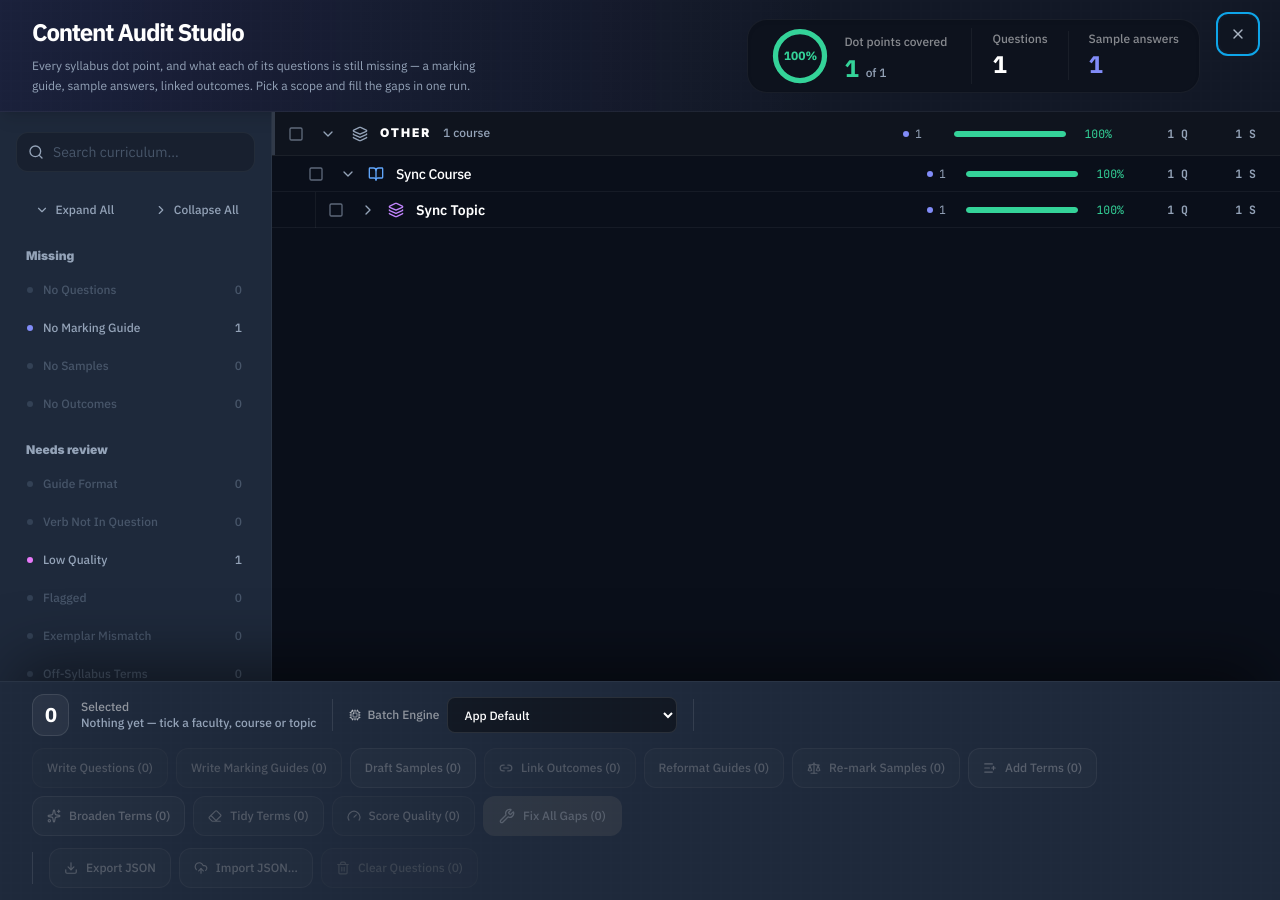
it: Content Audit Studio — sync repairs to the shared library › queues repaired prompts and pushes them (with samples) as pending contributions
Expected: the button "sync to library" is not shown
// Repair the prompt's rubric (it has none) via a real batch run.
Click the button named "Select Sync Course" at [316, 174], box [308, 166, 324, 182]
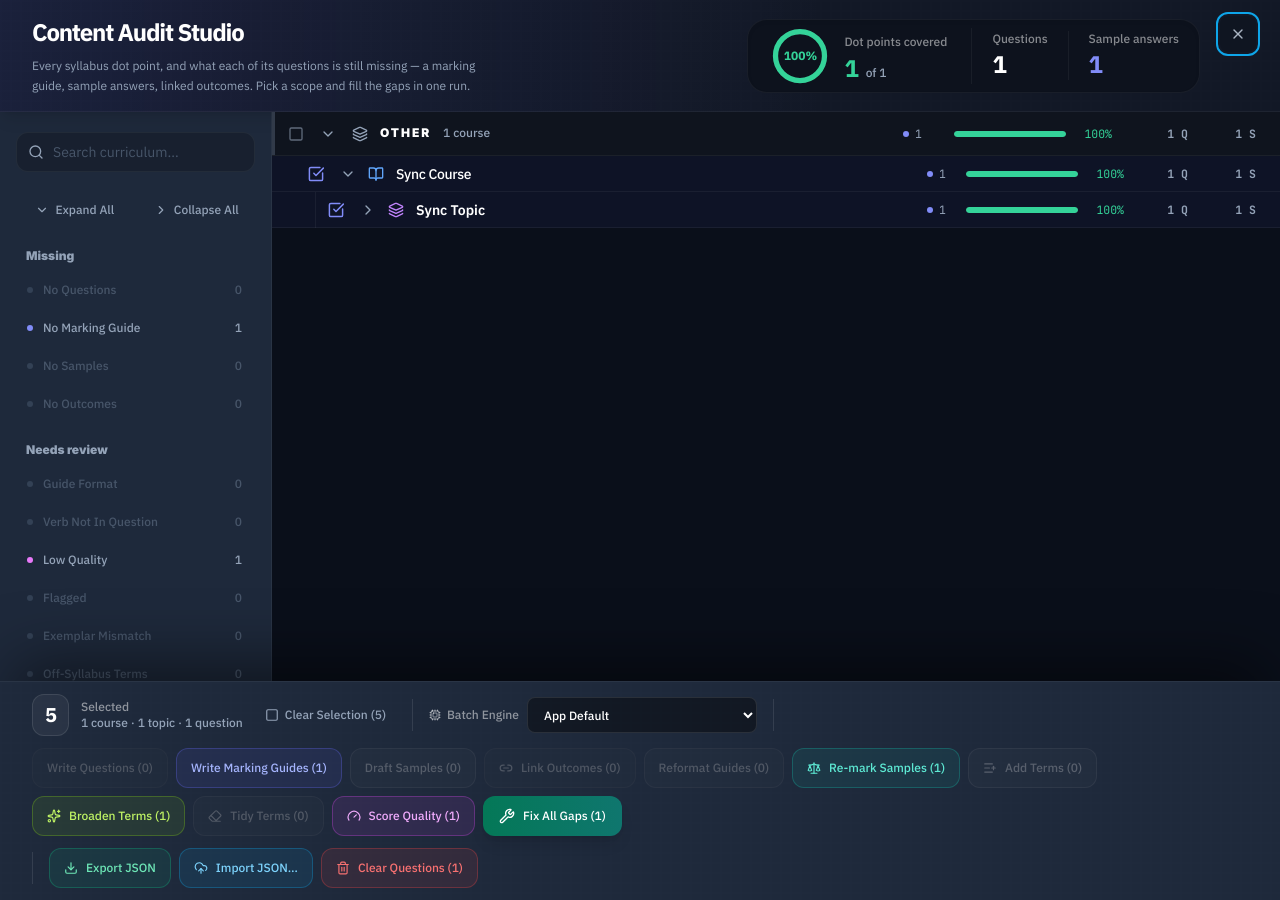
Click the button "Write Marking Guides (1)" at [259, 768], box [176, 748, 342, 788]
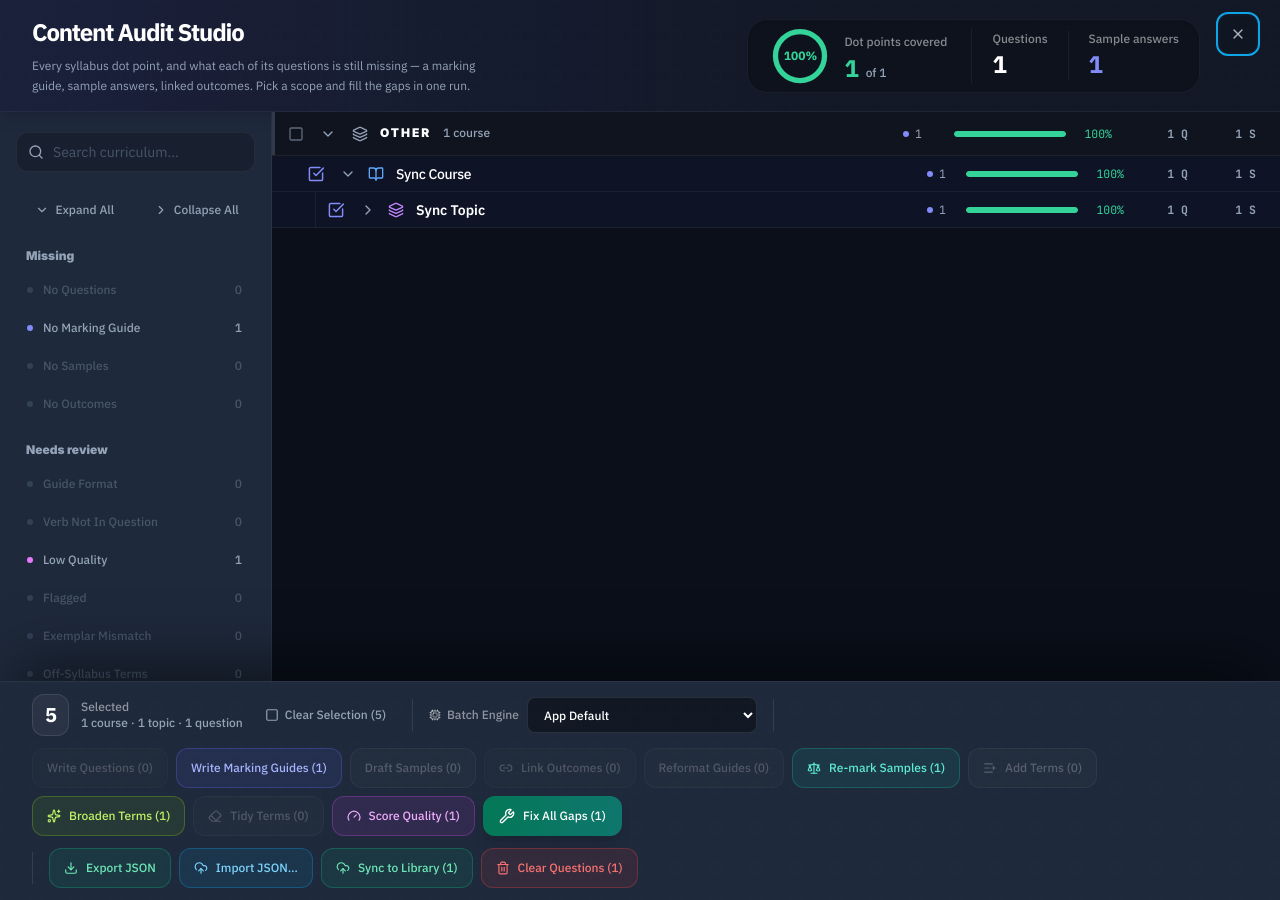
// Push to the shared library.
Click the button "Sync to Library (1)" at [397, 868], box [321, 848, 473, 888]
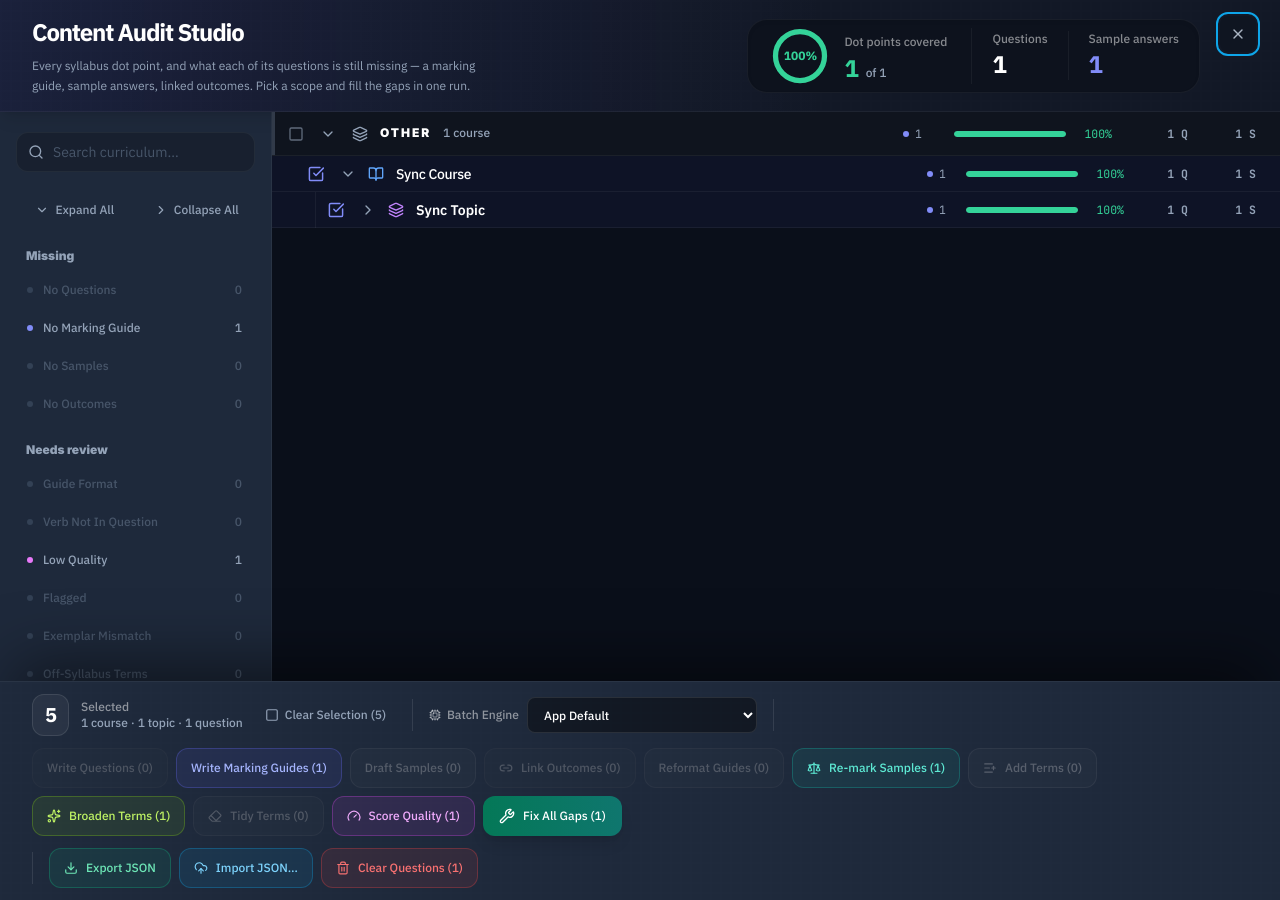
Now the button "Sync to Library" is gone
